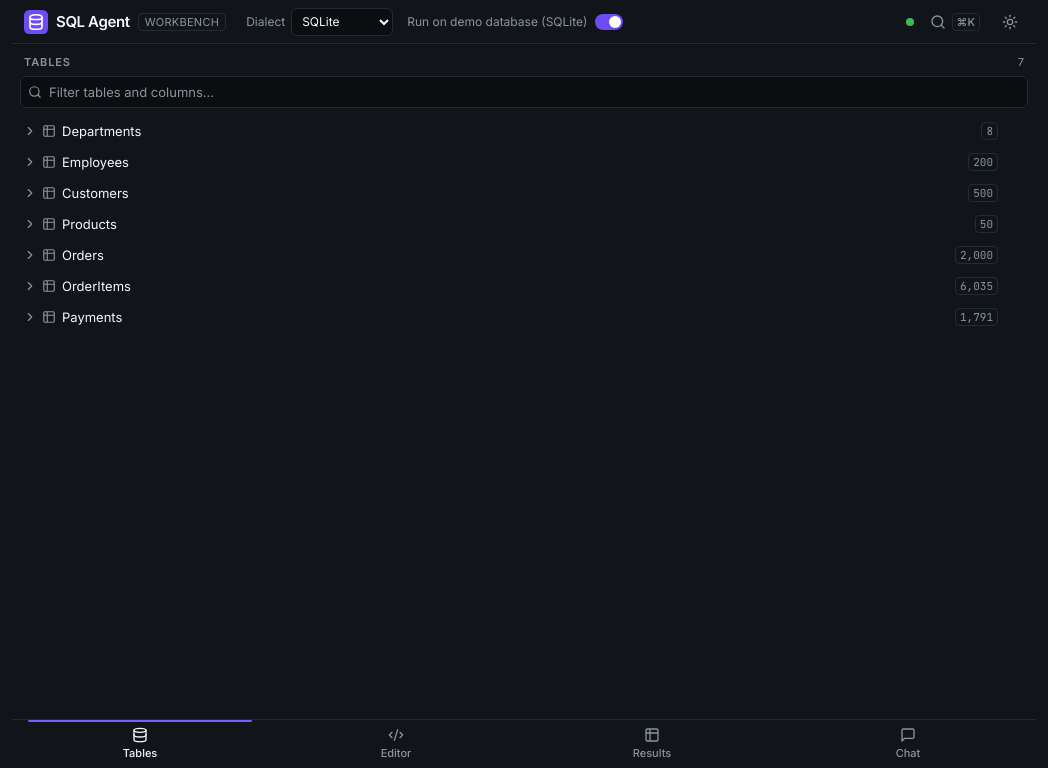
Test: Workbench below 1024 px (tabbed layout) › tapping a table still switches to Results
Click the button with aria-label "Preview Customers": [95, 193] box left=42, top=178, right=1002, bottom=208
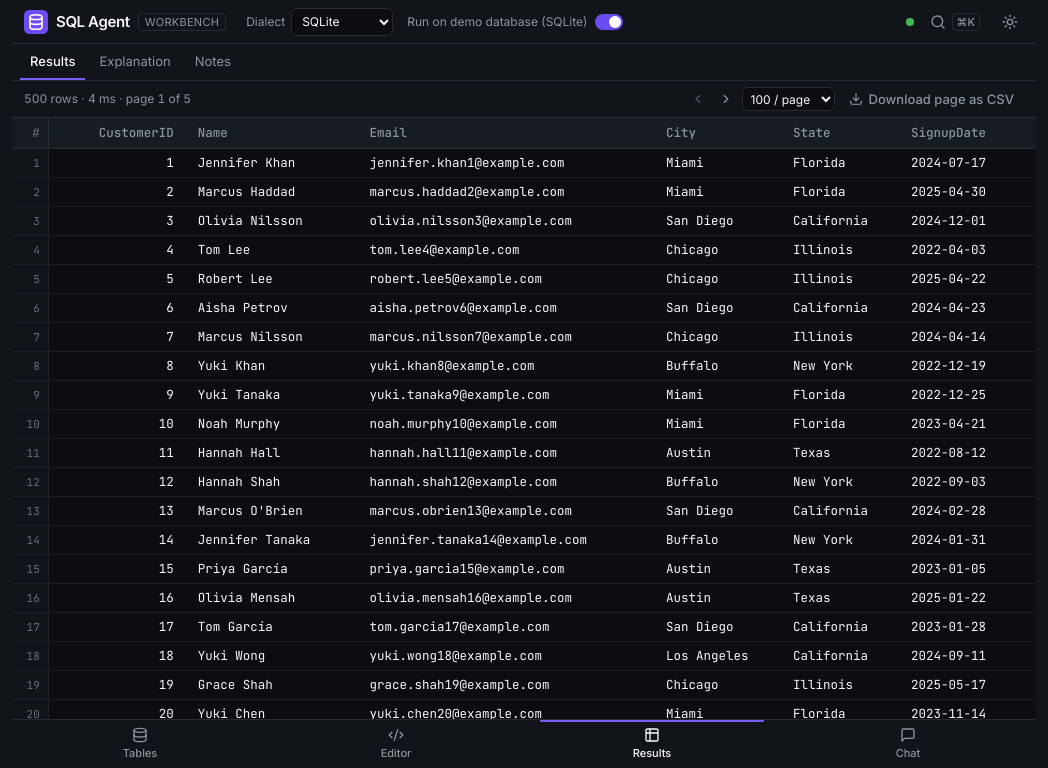
Expected: the button "Results" is shown, left=524, top=720, right=780, bottom=767
Result: the text "500 rows · 4 ms · page 1 of 5" is shown at left=24, top=91, right=191, bottom=107
